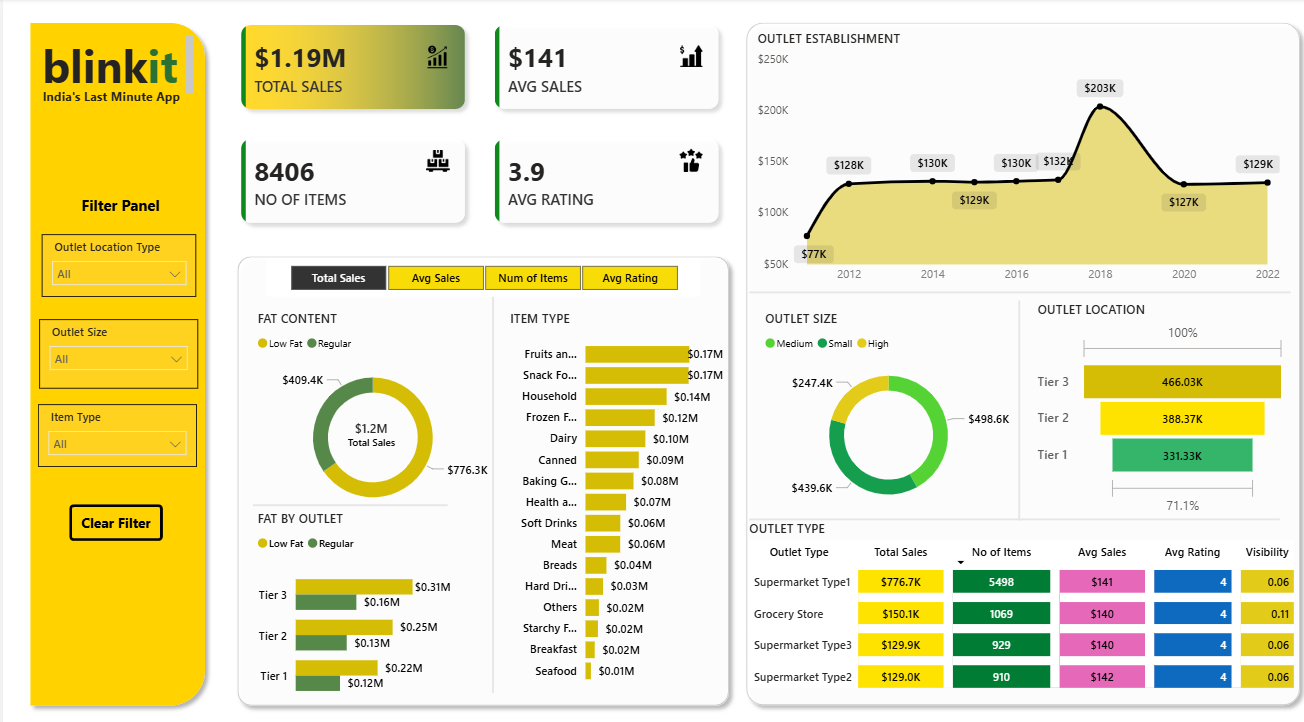

Layout of this report page (visuals, bound fields, positions):
{"tool":"powerbi","page":{"name":"Page 1","canvas":[1400,800],"ordinal":0},"visuals":[{"type":"shape","box":[19.5,18,205.6,750.4],"z":0},{"type":"textbox","box":[37.5,34.5,171.1,73.5],"z":1000},{"type":"textbox","box":[37.5,91.6,169.6,33],"z":2000},{"type":"cardVisual","fields":{"Data":["BlinkIT Grocery Data.Total Sales","BlinkIT Grocery Data.Avg Sales","BlinkIT Grocery Data.Num of Items","BlinkIT Grocery Data.Avg Rating"]},"box":[225.9,0,570.4,270.4],"z":3000},{"type":"image","box":[410.8,19.2,111.7,89.2],"z":4000},{"type":"image","box":[405,124.2,123.3,100],"z":5000},{"type":"image","box":[686.4,135.5,102.7,77.3],"z":6000},{"type":"image","box":[707.3,34.5,60.9,55.5],"z":7000},{"type":"shape","box":[243.1,268.7,544.8,499.8],"z":8000},{"type":"slicer","fields":{"Values":["Filter.Filter"]},"box":[282.5,280,465,40],"z":9000},{"type":"donutChart","title":"FAT CONTENT","fields":{"Y":["BlinkIT Grocery Data.Total Sales"],"Category":["BlinkIT Grocery Data.Item Fat Content"]},"box":[267.5,333.8,257.5,230],"z":10000},{"type":"cardVisual","fields":{"Data":["BlinkIT Grocery Data.Total Sales"]},"box":[331.2,431.2,128.8,71.2],"z":11000},{"type":"clusteredBarChart","title":"FAT BY OUTLET","fields":{"Y":["BlinkIT Grocery Data.Total Sales"],"Category":["BlinkIT Grocery Data.Outlet Location Type"],"Series":["BlinkIT Grocery Data.Item Fat Content"]},"box":[267.5,548.8,217.5,218.8],"z":12000},{"type":"shape","box":[267.5,502.5,208.8,82.5],"z":13000},{"type":"barChart","title":"ITEM TYPE","fields":{"Y":["BlinkIT Grocery Data.Total Sales"],"Category":["BlinkIT Grocery Data.Item Type"]},"box":[538.8,333.8,238.8,411.2],"z":14000},{"type":"shape","box":[788.5,17.3,611.5,750],"z":15000},{"type":"lineChart","title":"OUTLET ESTABLISHMENT","fields":{"Category":["BlinkIT Grocery Data.Outlet Establishment Year"],"Y":["BlinkIT Grocery Data.Total Sales"]},"box":[804.3,32.9,570,281.4],"z":16000},{"type":"donutChart","title":"OUTLET SIZE","fields":{"Y":["BlinkIT Grocery Data.Total Sales"],"Category":["BlinkIT Grocery Data.Outlet Size"]},"box":[812,333.2,275,225],"z":17000},{"type":"shape","box":[1053.6,324.4,72.4,235.9],"z":18000},{"type":"funnel","title":"OUTLET LOCATION","fields":{"Category":["BlinkIT Grocery Data.Outlet Location Type"],"Y":["Sum(BlinkIT Grocery Data.Sales)"]},"box":[1104.6,324.2,276.2,235.6],"z":19000},{"type":"pivotTable","title":"OUTLET TYPE","fields":{"Rows":["BlinkIT Grocery Data.Outlet Type"],"Values":["BlinkIT Grocery Data.Total Sales","BlinkIT Grocery Data.Num of Items","BlinkIT Grocery Data.Avg Sales","BlinkIT Grocery Data.Avg Rating","Avg(BlinkIT Grocery Data.Item Visibility)"]},"box":[800,558.6,600,208.6],"z":20000},{"type":"shape","box":[800,549,569,19],"z":21000},{"type":"slicer","fields":{"Values":["BlinkIT Grocery Data.Outlet Location Type"]},"box":[41.4,252.9,165.7,67.1],"z":22000},{"type":"slicer","fields":{"Values":["BlinkIT Grocery Data.Outlet Size"]},"box":[38.6,344.3,170,74.3],"z":23000},{"type":"slicer","fields":{"Values":["BlinkIT Grocery Data.Item Type"]},"box":[37.1,435.7,170,67.1],"z":24000},{"type":"shape","box":[489.3,320.4,72.4,424.9],"z":25000},{"type":"shape","box":[800.3,103.2,580.4,424.9],"z":26000},{"type":"actionButton","box":[71.5,543.3,100.4,39.6],"z":26001},{"type":"textbox","box":[79.1,206.4,101.9,34.9],"z":26002}]}

Visuals, with their boxes on the page's 1400x800 design canvas (x1, y1, x2, y2). These are canvas units, not pixel positions in the 1304x722 screenshot, which may show the page scaled, cropped or inside an application window:
shape: <region>20, 18, 225, 768</region>
textbox: <region>38, 34, 209, 108</region>
textbox: <region>38, 92, 207, 125</region>
cardVisual - BlinkIT Grocery Data.Total Sales x BlinkIT Grocery Data.Avg Sales: <region>226, 0, 796, 270</region>
image: <region>411, 19, 522, 108</region>
image: <region>405, 124, 528, 224</region>
image: <region>686, 136, 789, 213</region>
image: <region>707, 34, 768, 90</region>
shape: <region>243, 269, 788, 768</region>
slicer - Filter.Filter: <region>282, 280, 748, 320</region>
"FAT CONTENT" donutChart: <region>268, 334, 525, 564</region>
cardVisual - BlinkIT Grocery Data.Total Sales: <region>331, 431, 460, 502</region>
"FAT BY OUTLET" clusteredBarChart: <region>268, 549, 485, 768</region>
shape: <region>268, 502, 476, 585</region>
"ITEM TYPE" barChart: <region>539, 334, 778, 745</region>
shape: <region>788, 17, 1400, 767</region>
"OUTLET ESTABLISHMENT" lineChart: <region>804, 33, 1374, 314</region>
"OUTLET SIZE" donutChart: <region>812, 333, 1087, 558</region>
shape: <region>1054, 324, 1126, 560</region>
"OUTLET LOCATION" funnel: <region>1105, 324, 1381, 560</region>
"OUTLET TYPE" pivotTable: <region>800, 559, 1400, 767</region>
shape: <region>800, 549, 1369, 568</region>
slicer - BlinkIT Grocery Data.Outlet Location Type: <region>41, 253, 207, 320</region>
slicer - BlinkIT Grocery Data.Outlet Size: <region>39, 344, 209, 419</region>
slicer - BlinkIT Grocery Data.Item Type: <region>37, 436, 207, 503</region>
shape: <region>489, 320, 562, 745</region>
shape: <region>800, 103, 1381, 528</region>
actionButton: <region>72, 543, 172, 583</region>
textbox: <region>79, 206, 181, 241</region>
